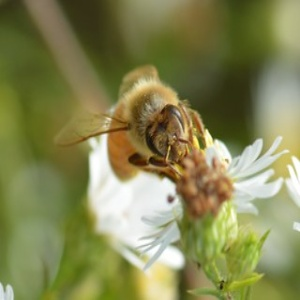bee: (52, 63, 214, 187)
